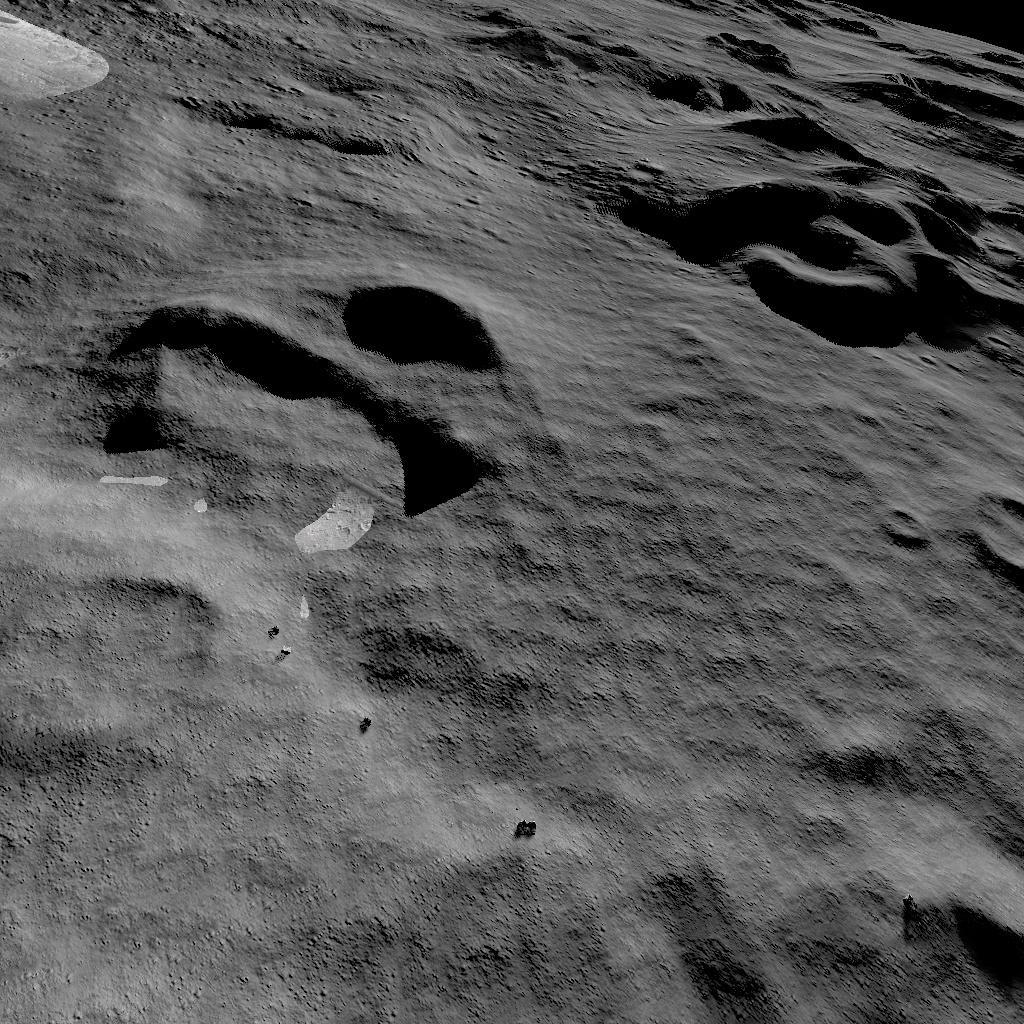Boulders: (0, 0, 121, 106)
Crater: (579, 0, 1024, 344), (104, 275, 519, 536), (0, 558, 213, 754), (869, 853, 1024, 1024), (954, 468, 1024, 592), (864, 490, 921, 560)
Plan surface: (556, 366, 849, 1024), (0, 774, 489, 1024)
